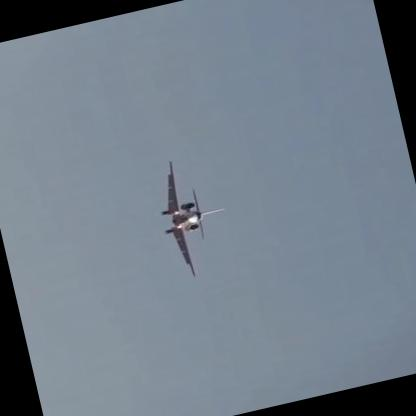plane: (148, 153, 237, 282)
